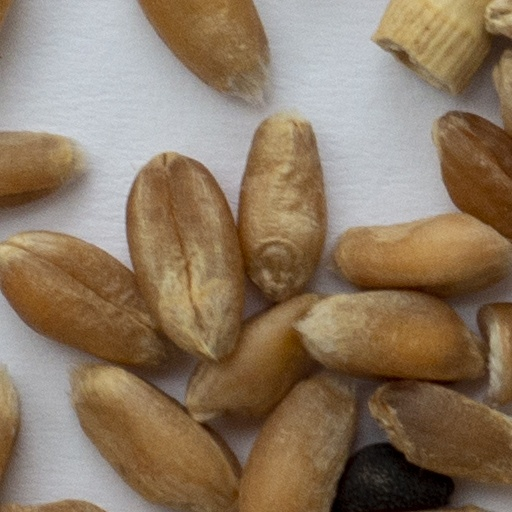Convolvulus-poly: (334, 444, 453, 511)
Peel-poly: (374, 0, 491, 93)
Wheat-grain-damaged-poly: (473, 304, 511, 403)
